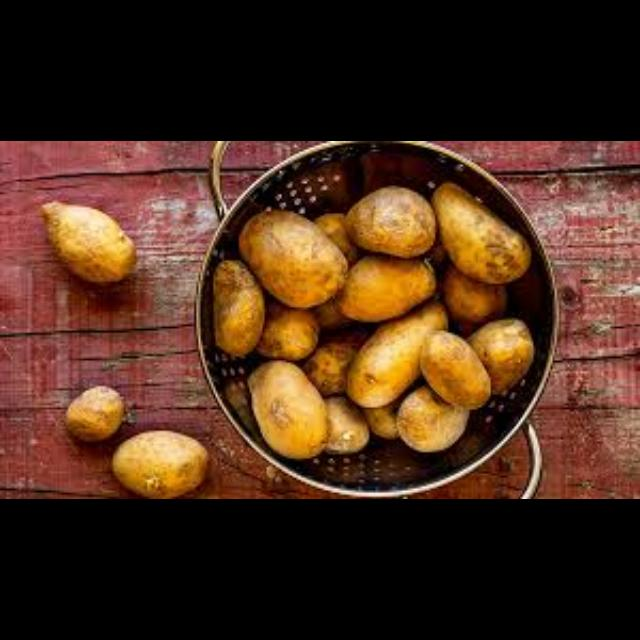Diseased-fungal potato: (427, 169, 541, 289), (244, 207, 346, 309), (40, 196, 140, 294), (240, 358, 332, 464), (348, 183, 442, 260), (415, 328, 497, 414), (112, 429, 214, 498), (208, 255, 260, 359), (462, 318, 530, 390), (66, 379, 124, 443)
Potato: (342, 298, 443, 408), (330, 256, 436, 324), (390, 382, 468, 452), (256, 308, 324, 360)
